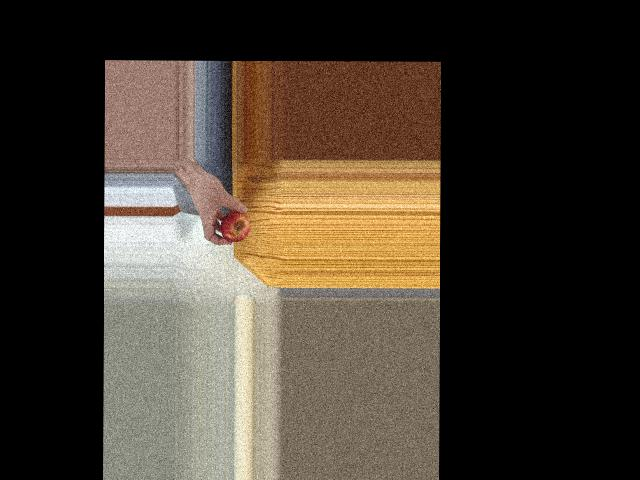apple: (218, 206, 250, 243)
